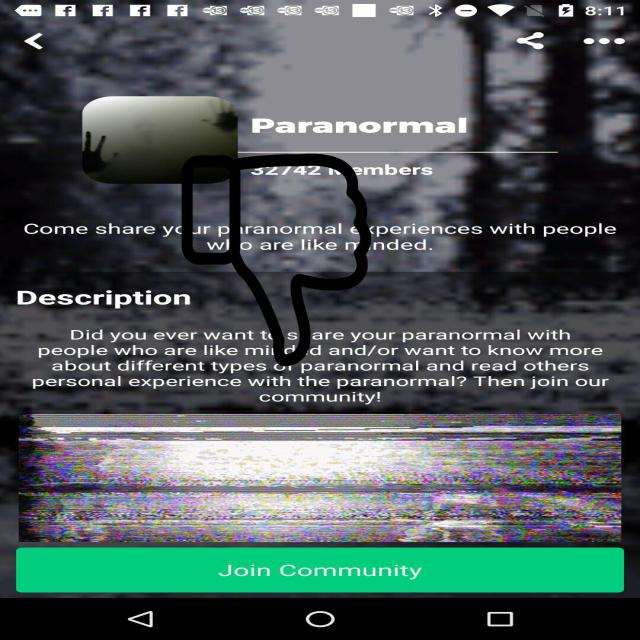obstruction: (179, 154, 374, 366)
